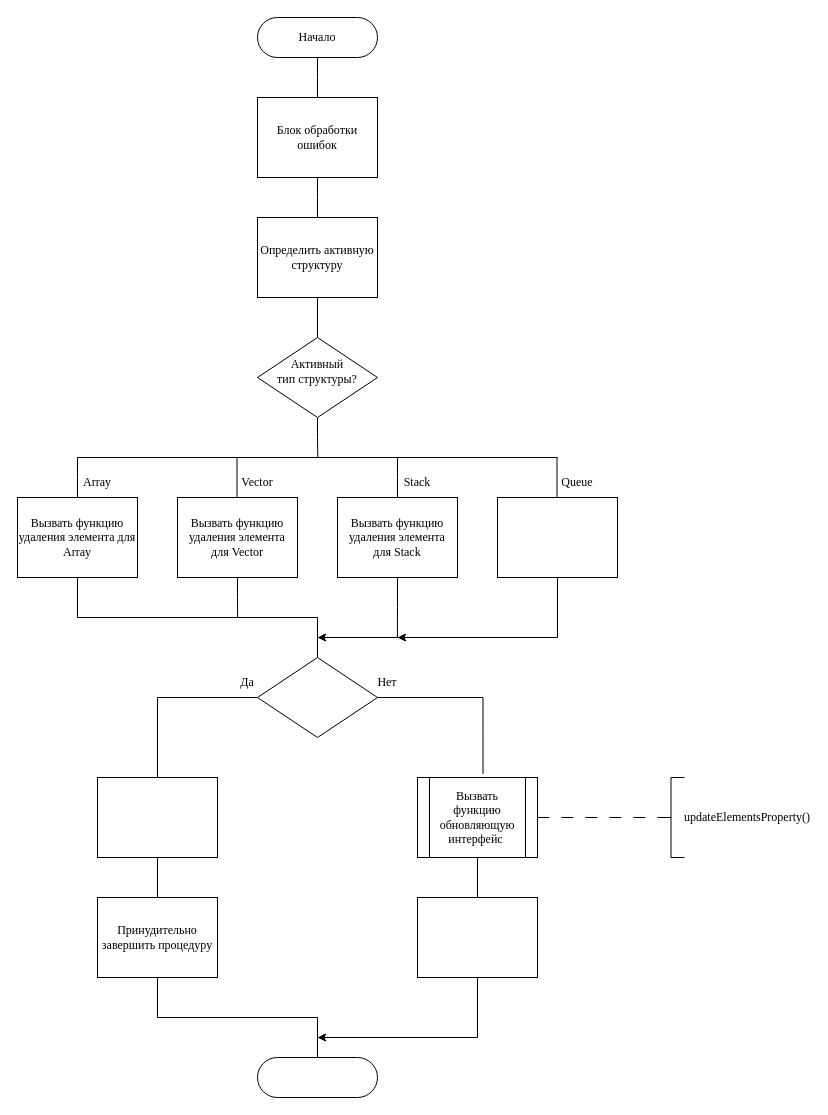
This 828x1115 diagram has some shape labels left out. The shapes that lost their labels are listed below. From the top down, each one's centre as x and y in pixels, then its label:
(557,537): Вызвать функцию удаления элемента для Queue
(317,697): Была ли ошибка?
(157,817): Отправить сигнал о возникновении ошибки
(477,937): Отправить сигналы об изменении элементов и их количества
(317,1077): Конец
